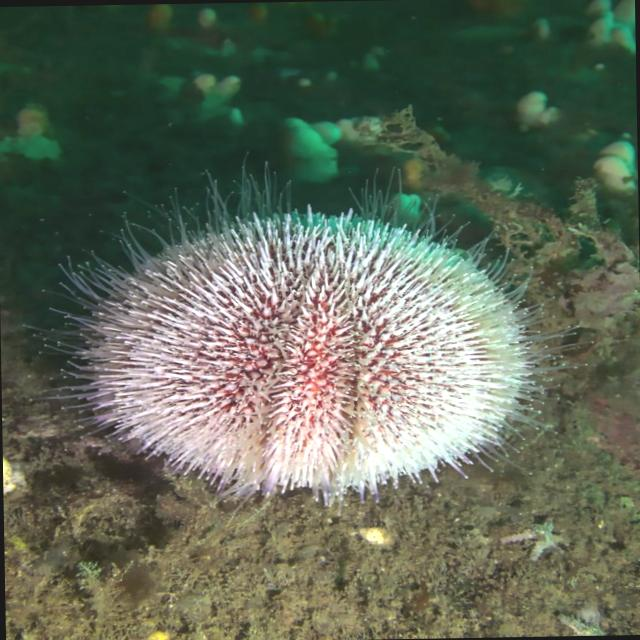Deniz Kestanesi: (19, 145, 596, 527)
